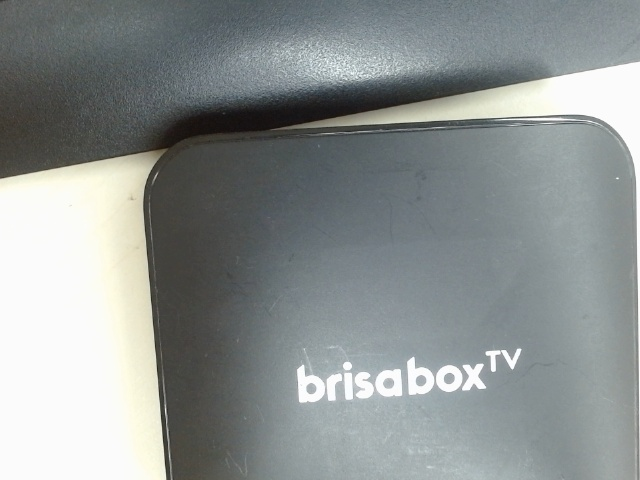AH_brisabox: (289, 343, 531, 414)
